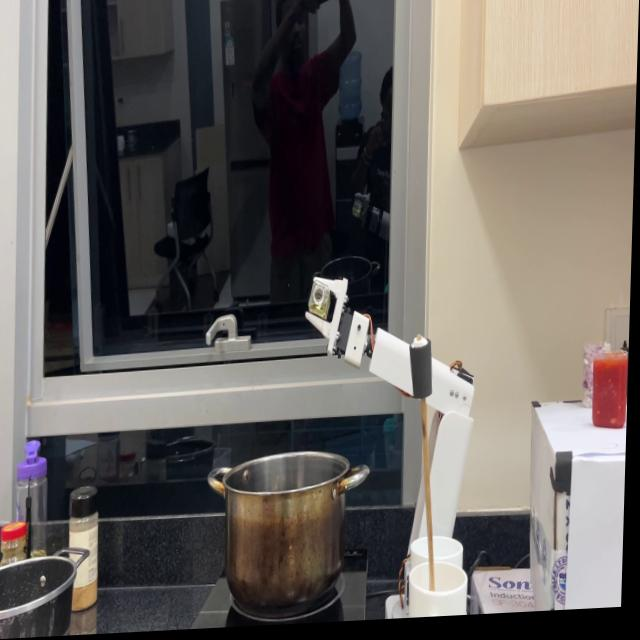blended_tomatoes_pepper: (595, 365, 631, 436)
cooking_pot: (209, 454, 380, 612), (0, 550, 98, 635)
oil: (417, 371, 446, 590), (313, 291, 333, 325)
